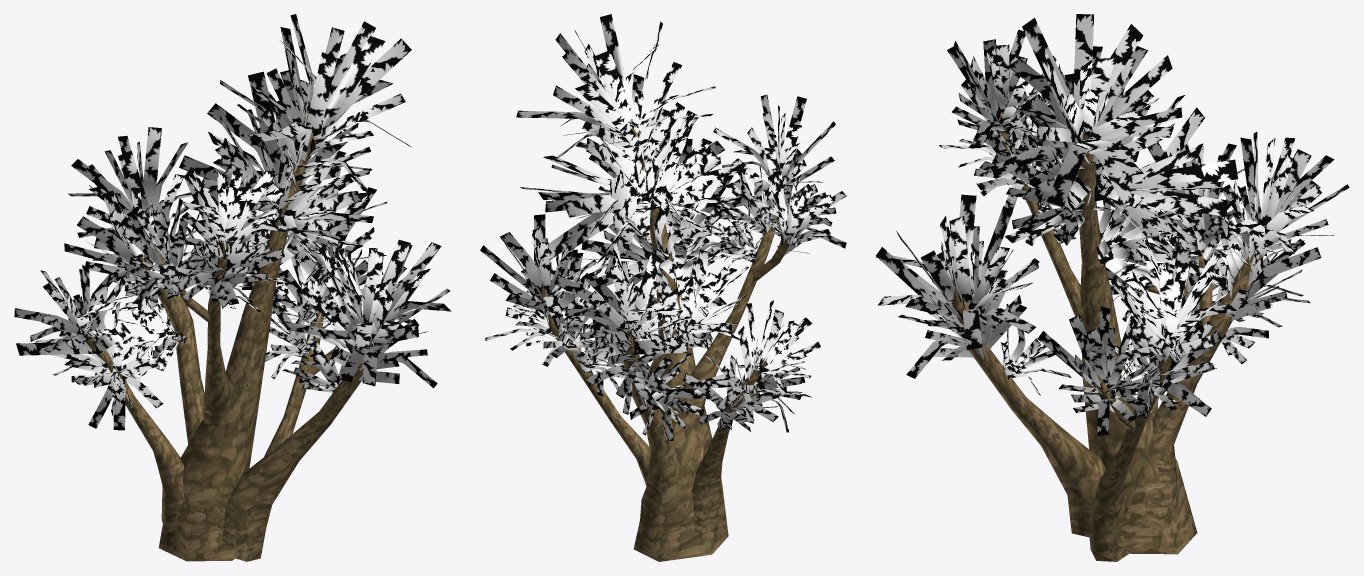
File: P_YuccaTree05.obj
3 views of the same model, side by side, from view 1: azimuth 30°, elevation 25°; view 2: azimuth 150°, elevation 25°; view 3: azimuth 270°, elevation 25° (orthographic). The views are drawn at different scales.
Size of the model in its own units: 6.44 by 8.81 by 6.75.
